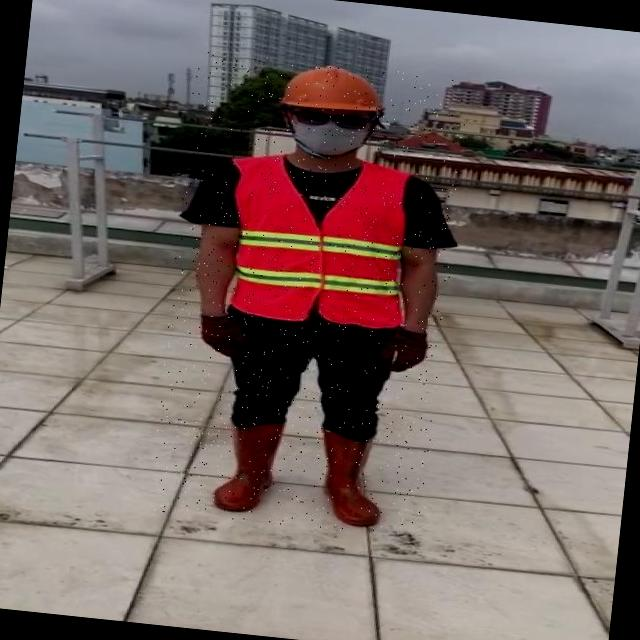boots: (310, 428, 384, 528), (214, 418, 285, 516)
helmet: (273, 57, 388, 118)
vest: (220, 148, 422, 330)
